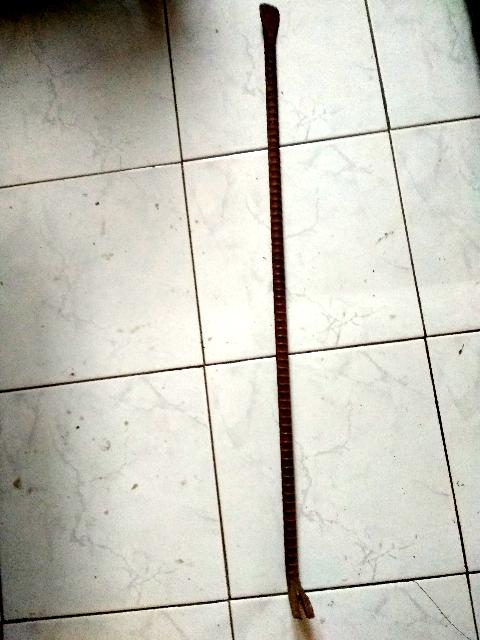crow bar: (262, 3, 317, 618)
